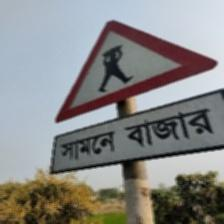Market-in-front: (50, 18, 224, 174)
